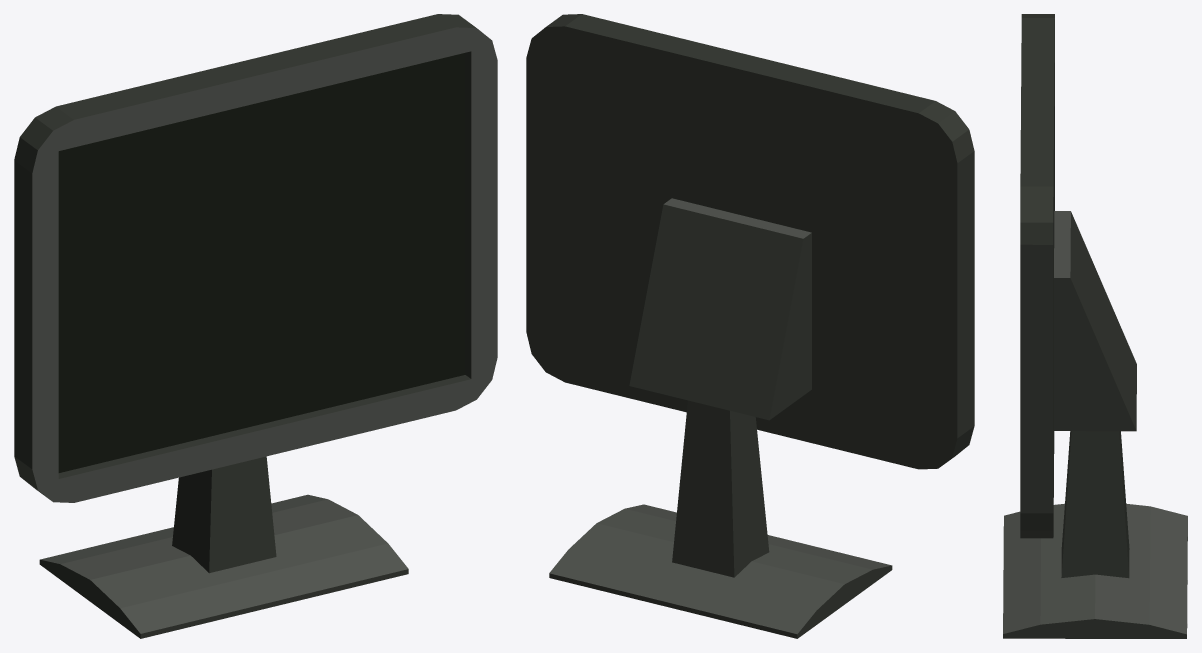
Rendered from Display_Monitor.glb.
3 views of the same model, side by side, from view 1: azimuth 30°, elevation 25°; view 2: azimuth 150°, elevation 25°; view 3: azimuth 270°, elevation 25° (orthographic). The views are drawn at different scales.
Parts seen in each view (by area): view 1: Display_Monitor; view 2: Display_Monitor; view 3: Display_Monitor.
Part boxes in pixels (x1,y1,x2,y2): Display_Monitor: [14, 14, 497, 638]; Display_Monitor: [526, 14, 974, 638]; Display_Monitor: [1003, 14, 1187, 638].
Size of what is drawn, in the model's own units: 0.738 by 0.7978 by 0.2803.
1 material, 1 textured.
